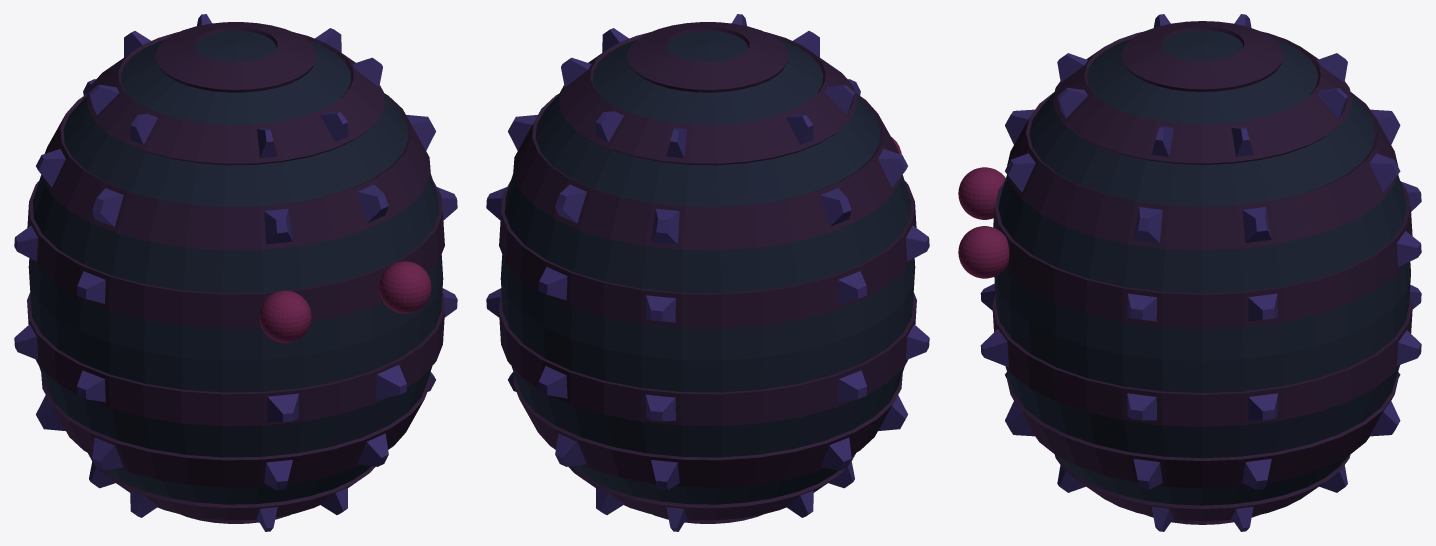
File: Kolczatka.fbx
3 views of the same model, side by side, from view 1: azimuth 30°, elevation 25°; view 2: azimuth 150°, elevation 25°; view 3: azimuth 270°, elevation 25° (orthographic).
Parts seen in each view (by area): view 1: Body, Eye1, Eye2; view 2: Body; view 3: Body, Eye1, Eye2.
Part boxes in pixels (left/top/right/bottom): Body: left=14, top=14, right=457, bottom=531; Eye1: left=379, top=261, right=431, bottom=313; Eye2: left=259, top=290, right=311, bottom=342; Body: left=486, top=14, right=929, bottom=531; Body: left=980, top=14, right=1421, bottom=531; Eye1: left=958, top=226, right=1009, bottom=278; Eye2: left=958, top=167, right=1005, bottom=219.
Bounding box in the file's own units: 189 × 219 × 200.
1 material, 1 textured.
